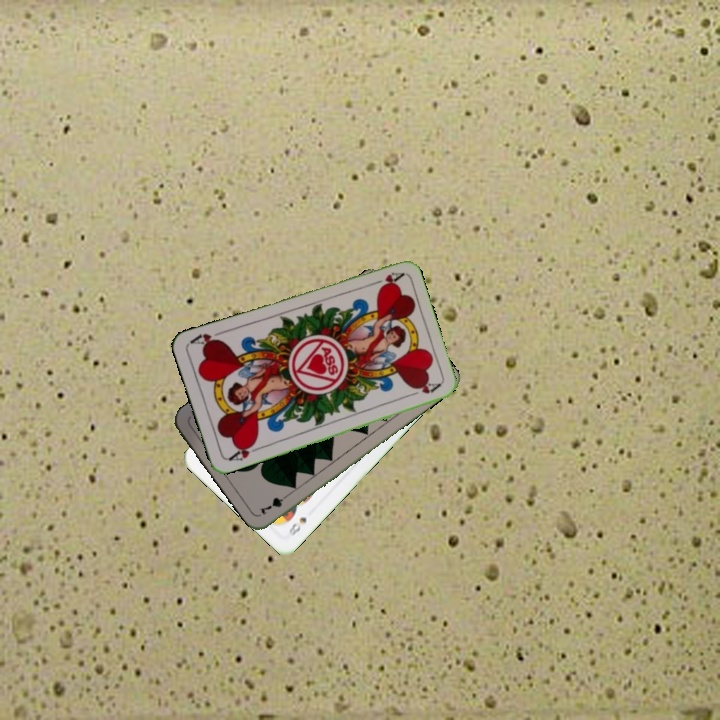G7: (256, 489, 293, 518)
HA: (224, 438, 264, 464), (365, 268, 405, 291)
S8: (284, 513, 309, 539)
